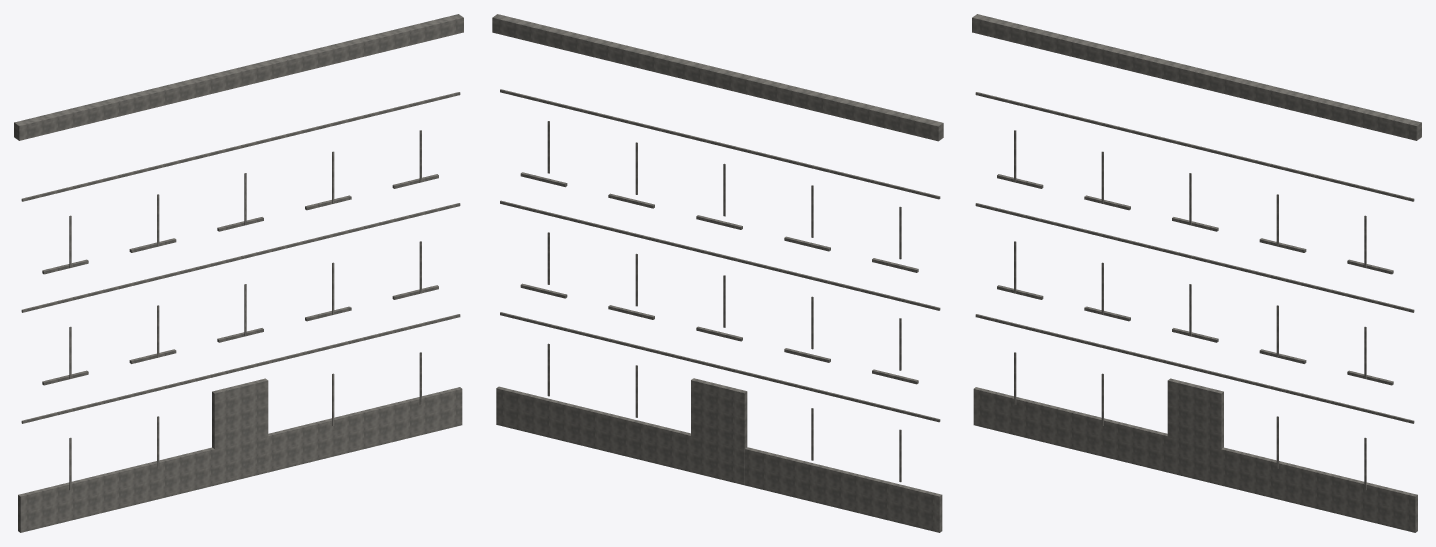
File: Street_BlockR0_Trim.obj
The picture shows the model from 3 angles, left to right: view 1: azimuth 30°, elevation 25°; view 2: azimuth 150°, elevation 25°; view 3: azimuth 330°, elevation 25°; orthographic projection.
Bounding box in the file's own units: 13.2 × 11.55 × 0.485.
1 material, 1 textured.
